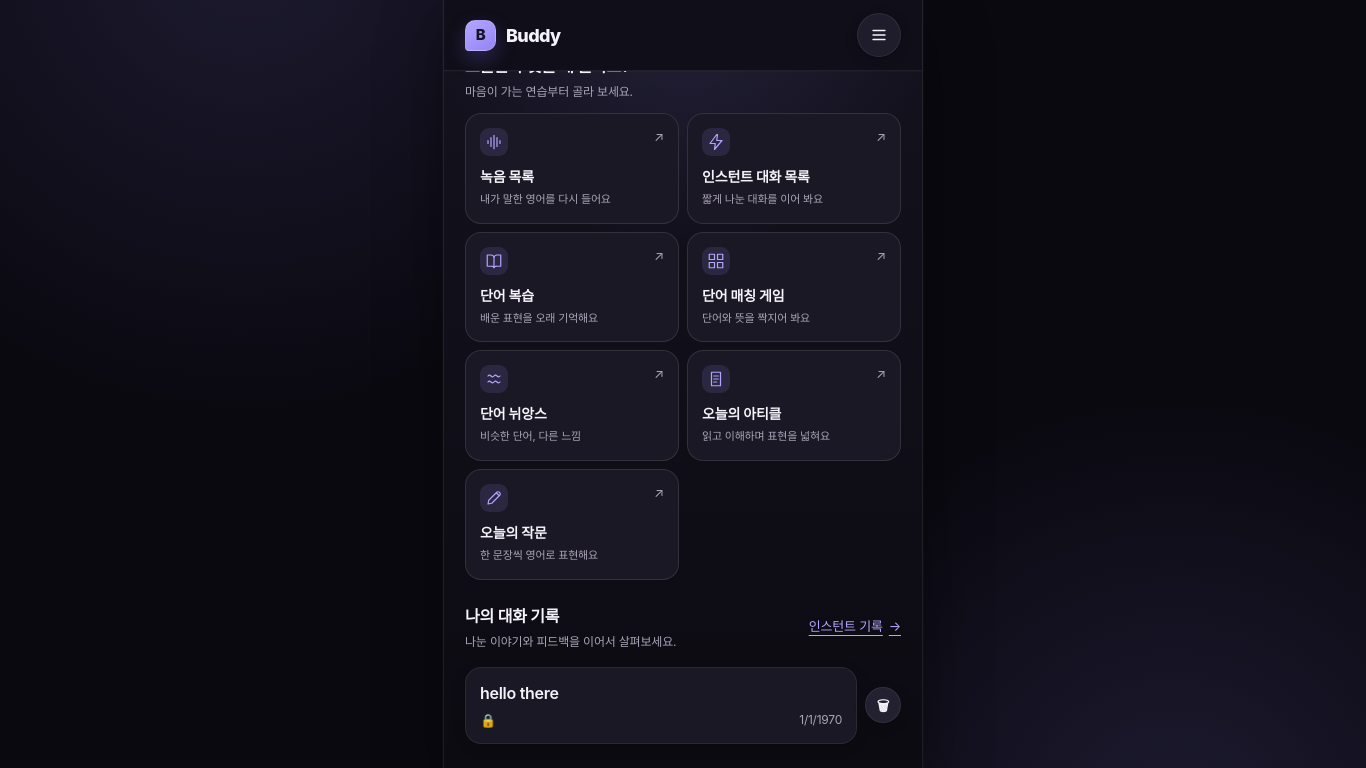
Test: room list › shows the answer's meaning hint before the learner answers
The width and height of the screenshot is (1366, 768).
(page scrolled)
Click the text "hello there": (519, 693) x1=480 y1=683 x2=559 y2=703
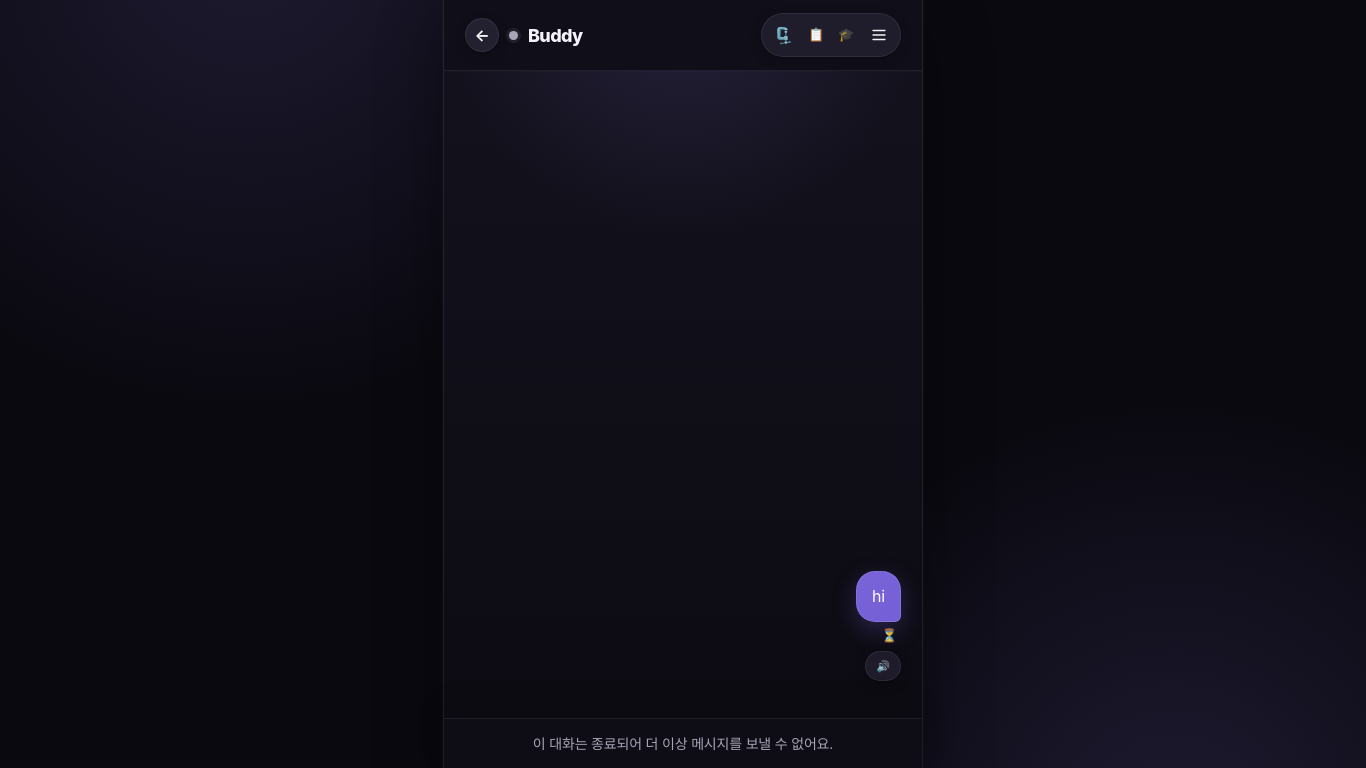
Now the text "hi" is shown, box x1=856 y1=571 x2=901 y2=622
Click the button named "대화 종료": (846, 35) x1=832 y1=21 x2=860 y2=49
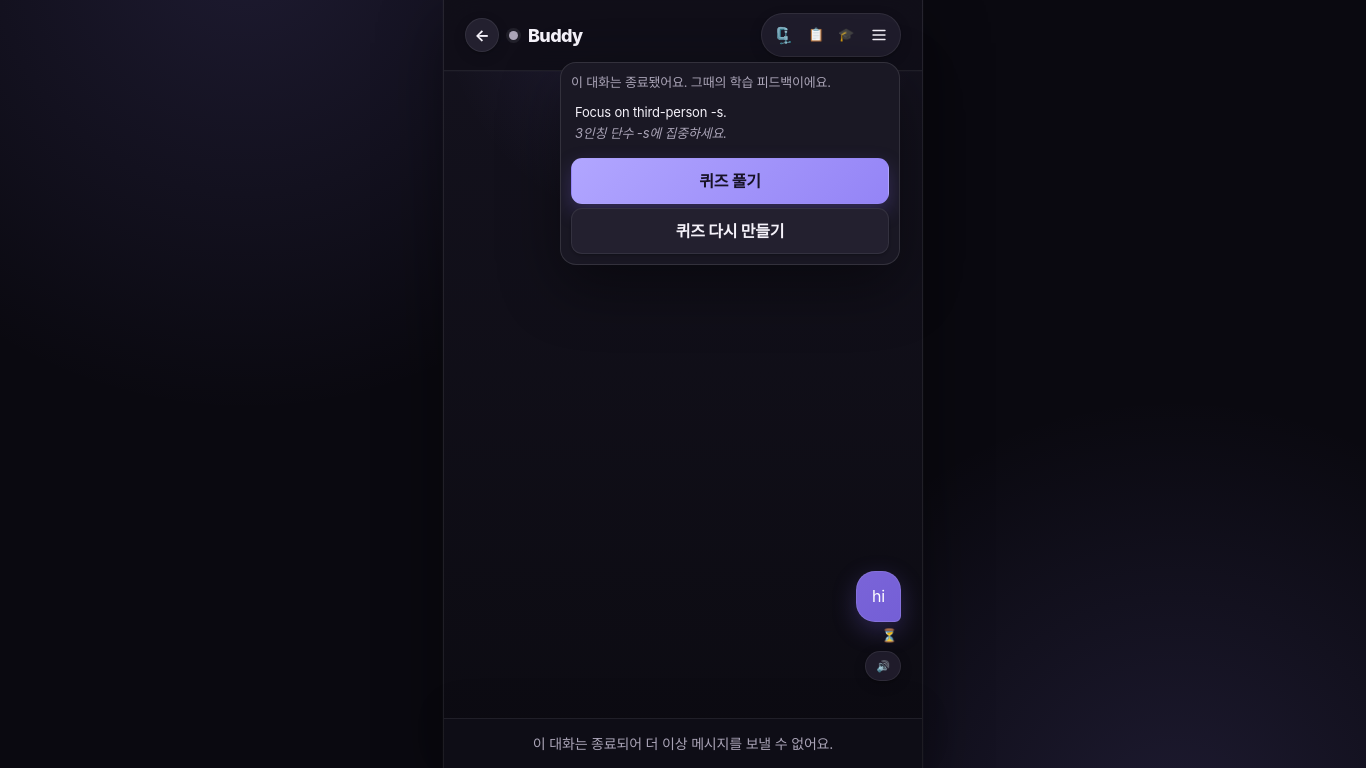
Click the button "퀴즈 풀기": (730, 180) x1=571 y1=158 x2=889 y2=204
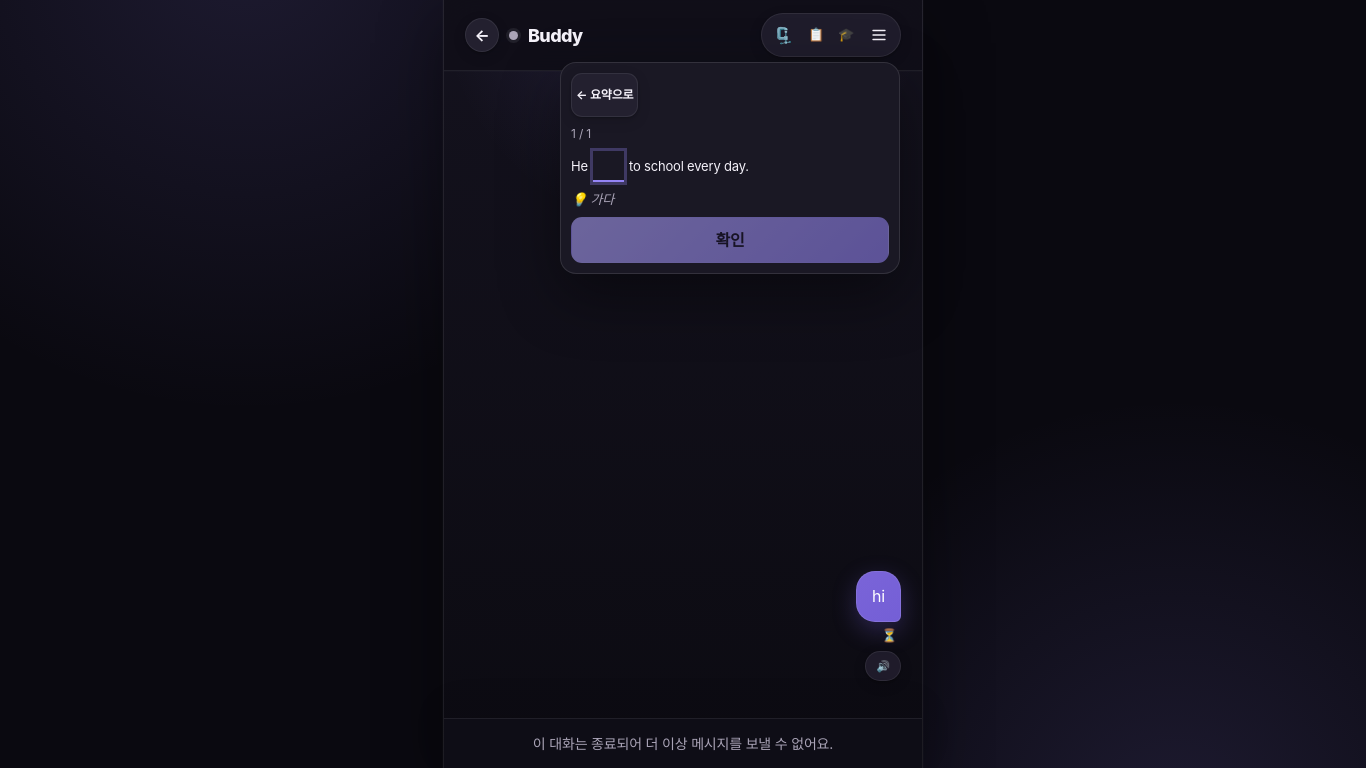
Now the text "to school every day." is shown, box x1=626 y1=158 x2=749 y2=174
Now the text "가다" is shown, box x1=590 y1=191 x2=614 y2=207
